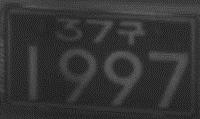1: (16, 46, 50, 101)
3: (55, 16, 82, 43)
7: (148, 50, 191, 108), (84, 17, 113, 43)
9: (102, 49, 144, 105), (58, 47, 97, 104)
구: (116, 20, 147, 45)
